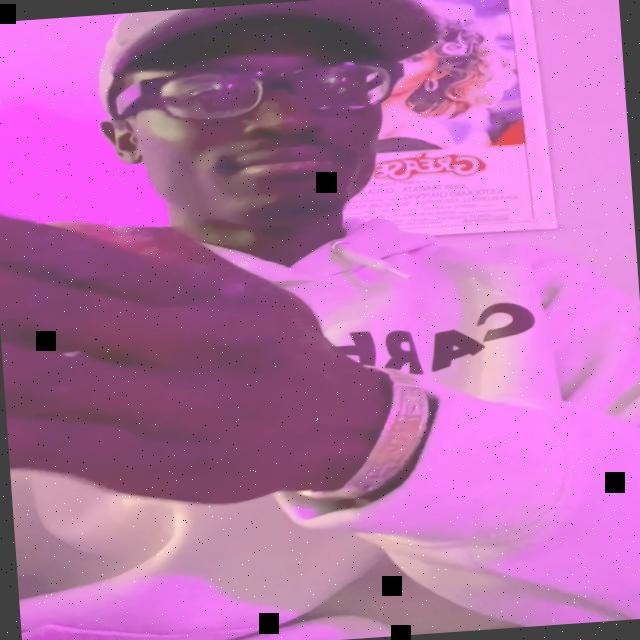Paper: (0, 180, 377, 512)
